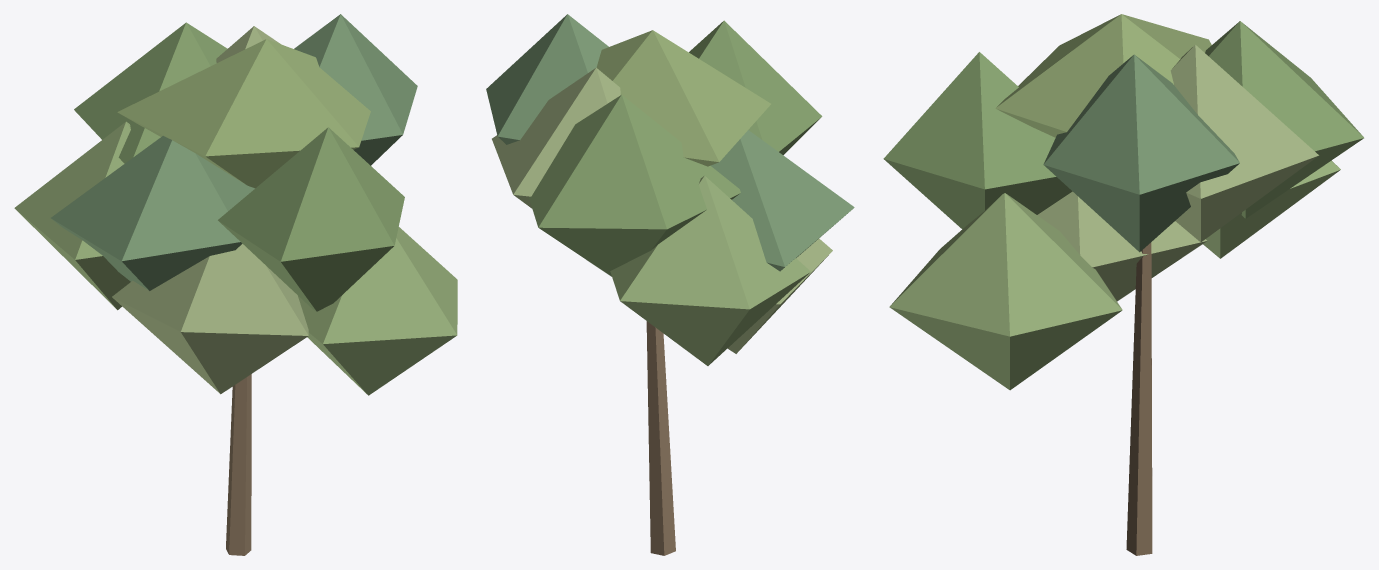
3 views of the same model, side by side, from view 1: azimuth 30°, elevation 25°; view 2: azimuth 150°, elevation 25°; view 3: azimuth 270°, elevation 25° (orthographic). The views are drawn at different scales.
Bounding box in the file's own units: 7.47 × 10.96 × 8.73.
